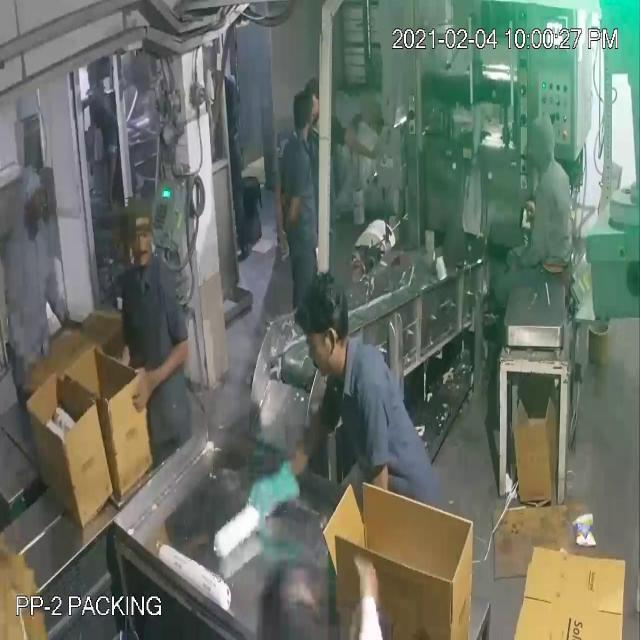No_Gloves: (18, 56, 360, 492)
